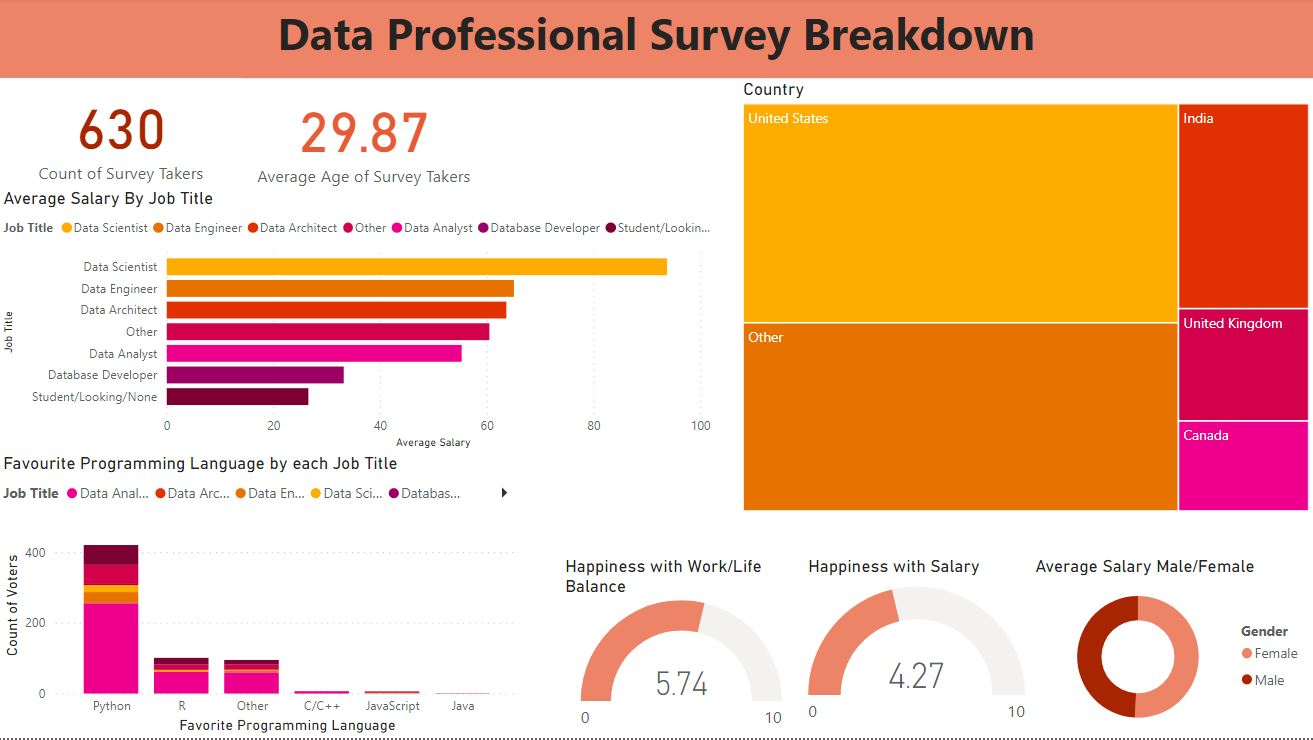

Layout of this report page (visuals, bound fields, positions):
{"tool":"powerbi","page":{"name":"Page 1","canvas":[1280,720],"ordinal":0},"visuals":[{"type":"textbox","box":[0,0,1280,77.8],"z":0},{"type":"card","fields":{"Values":["Count(Data Professional Survey.Unique ID)"]},"box":[0,77.8,239.3,107],"z":1000},{"type":"card","fields":{"Values":["Avg(Data Professional Survey.Q10 - Current Age)"]},"box":[239.3,78.8,233.4,110.9],"z":2000},{"type":"barChart","title":"Average Salary By Job Title","fields":{"Category":["Data Professional Survey.Q1 - Which Title Best Fits your Current Role?.1"],"Y":["Avg(Data Professional Survey.Average Salary)"],"Series":["Data Professional Survey.Q1 - Which Title Best Fits your Current Role?.1"]},"box":[0,184.8,698.4,257.8],"z":3000},{"type":"columnChart","title":"Favourite Programming Language by each Job Title","fields":{"Category":["Data Professional Survey.Q5 - Favorite Programming Language.1"],"Y":["CountNonNull(Data Professional Survey.Unique ID)"],"Series":["Data Professional Survey.Q1 - Which Title Best Fits your Current Role?.1"]},"box":[0,442.6,511.6,277.2],"z":4000},{"type":"treemap","title":"Country","fields":{"Group":["Data Professional Survey.Q11 - Which Country do you live in?.1"],"Values":["CountNonNull(Data Professional Survey.Q11 - Which Country do you live in?.1)"]},"box":[719.8,78.8,560.2,425],"z":5000},{"type":"gauge","title":"Happiness with Salary","fields":{"Y":["Avg(Data Professional Survey.Q6 - How Happy are you in your Current Position with the following? (Salary))"],"MinValue":["Min(Data Professional Survey.Q6 - How Happy are you in your Current Position with the following? (Salary))"],"MaxValue":["Max(Data Professional Survey.Q6 - How Happy are you in your Current Position with the following? (Salary))"]},"box":[783,542.7,220.8,177],"z":5001},{"type":"gauge","title":"Happiness with Work/Life Balance","fields":{"Y":["Avg(Data Professional Survey.Q6 - How Happy are you in your Current Position with the following? (Work/Life Balance))"],"MinValue":["Min(Data Professional Survey.Q6 - How Happy are you in your Current Position with the following? (Work/Life Balance))1"],"MaxValue":["Max(Data Professional Survey.Q6 - How Happy are you in your Current Position with the following? (Work/Life Balance))2"]},"box":[546.6,542.7,236.4,177],"z":5002},{"type":"donutChart","title":"Average Salary Male/Female","fields":{"Category":["Data Professional Survey.Q9 - Male/Female?"],"Y":["Avg(Data Professional Survey.Average Salary)"]},"box":[1003.8,542.7,276.2,177],"z":5003}]}

Visuals, with their boxes in screenshot pixels (x1, y1, x2, y2), scaled from the page's 1280x720 canvas onto the 1313x740 screenshot:
textbox: Rect(0, 0, 1312, 80)
card - Count(Data Professional Survey.Unique ID): Rect(0, 80, 245, 190)
card - Avg(Data Professional Survey.Q10 - Current Age): Rect(245, 81, 485, 195)
"Average Salary By Job Title" barChart: Rect(0, 190, 716, 455)
"Favourite Programming Language by each Job Title" columnChart: Rect(0, 455, 525, 739)
"Country" treemap: Rect(738, 81, 1312, 518)
"Happiness with Salary" gauge: Rect(803, 558, 1030, 739)
"Happiness with Work/Life Balance" gauge: Rect(561, 558, 803, 739)
"Average Salary Male/Female" donutChart: Rect(1030, 558, 1312, 739)
